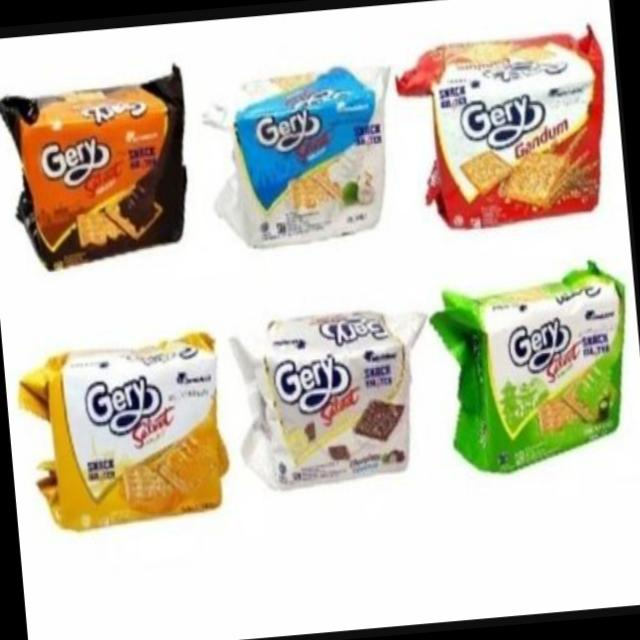KemasanPlastik: (391, 22, 617, 234), (13, 324, 228, 534), (226, 302, 440, 502), (197, 50, 402, 254), (0, 65, 199, 274), (432, 271, 630, 476)
